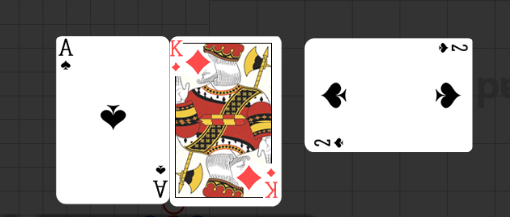2S: (436, 42, 469, 55)
AS: (151, 162, 168, 199)
KD: (265, 166, 280, 200)
